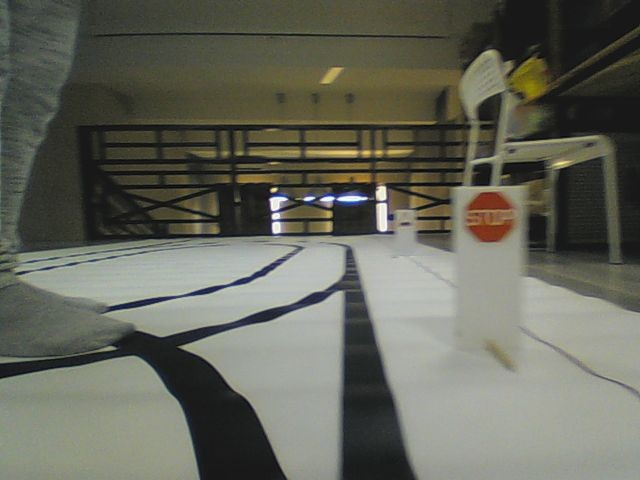Stop: (462, 189, 516, 243)
